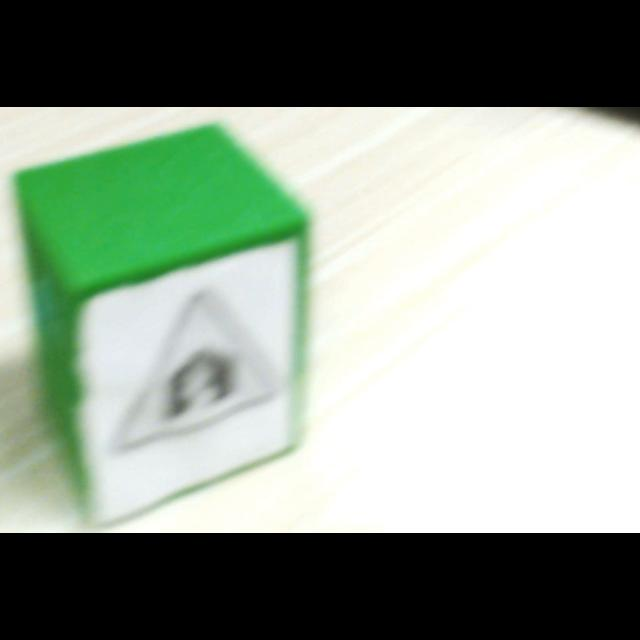Earthquake: (112, 291, 281, 453)
